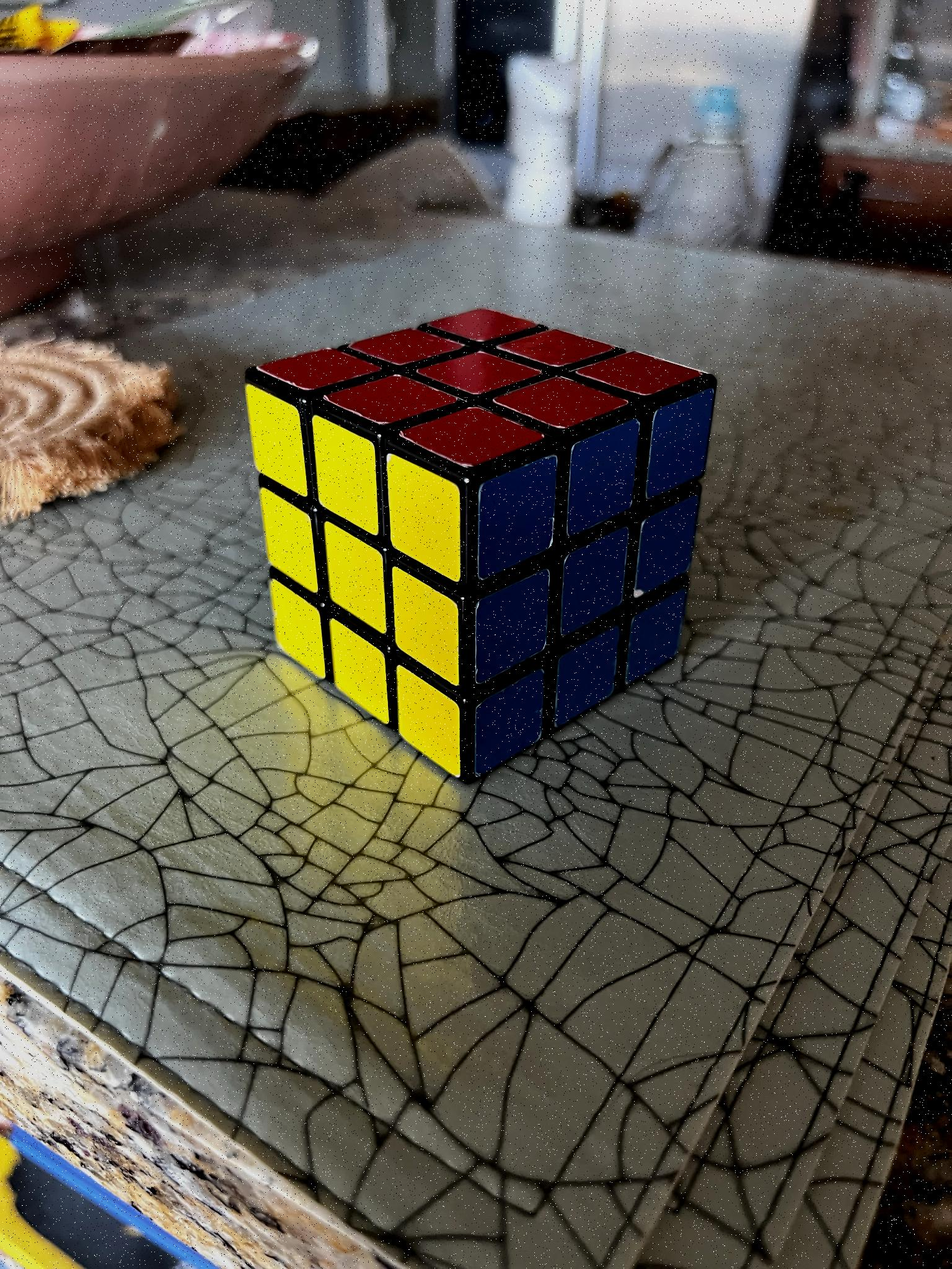rubiks_cube: (245, 307, 714, 776)
